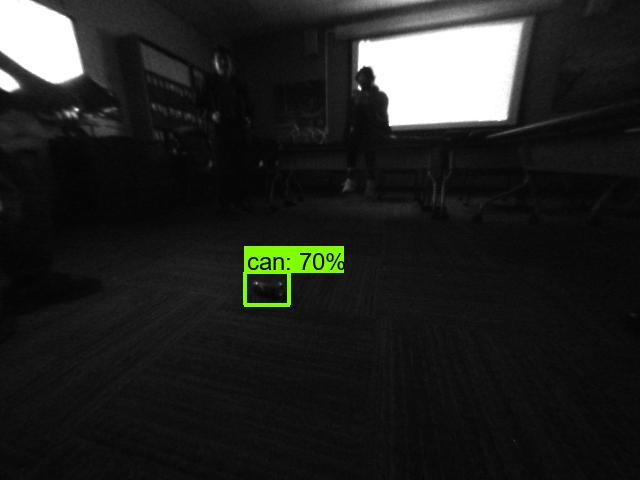can: (244, 275, 291, 302)
